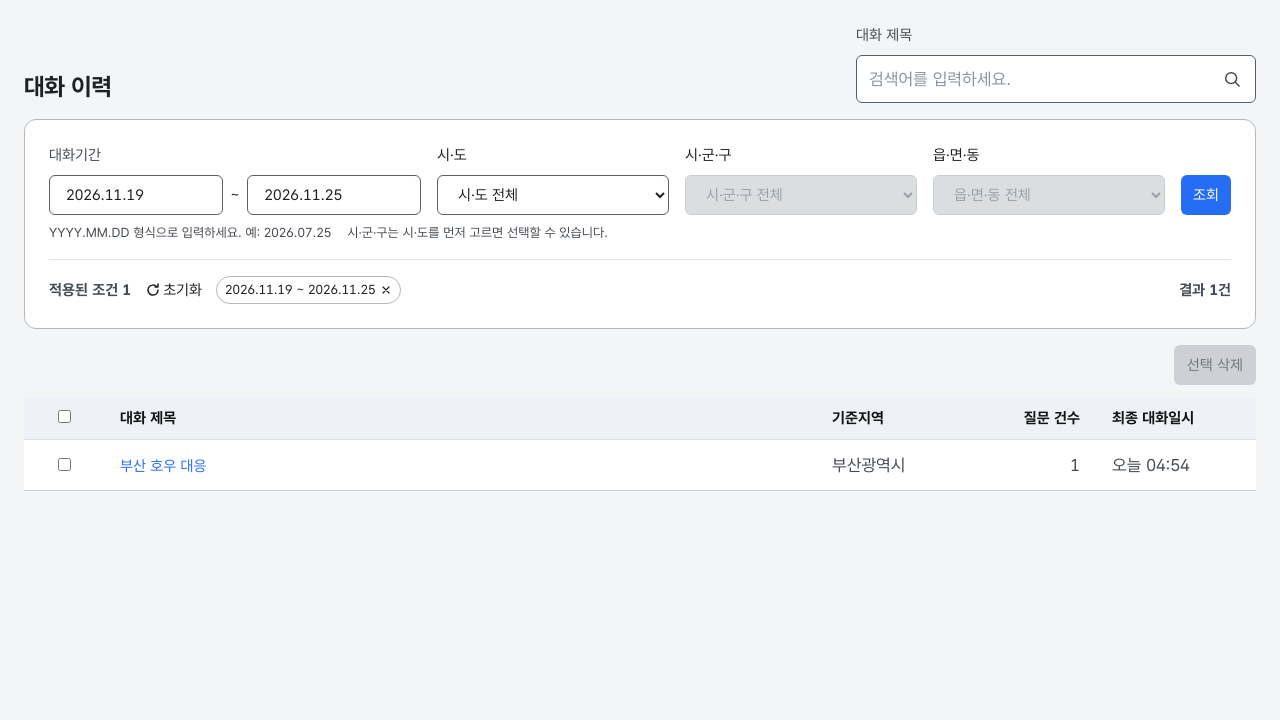
Test: 대화 이력 목록 › 칸만 고쳐서는 걸리지 않고 [조회]를 눌러야 걸린다 — 맞는 것이 없으면 「조건에 맞는 대화가 없습니다.」
In the search field labelled "대화 제목": point(1033, 79) left=857, top=56, right=1209, bottom=102, type "없는제목"
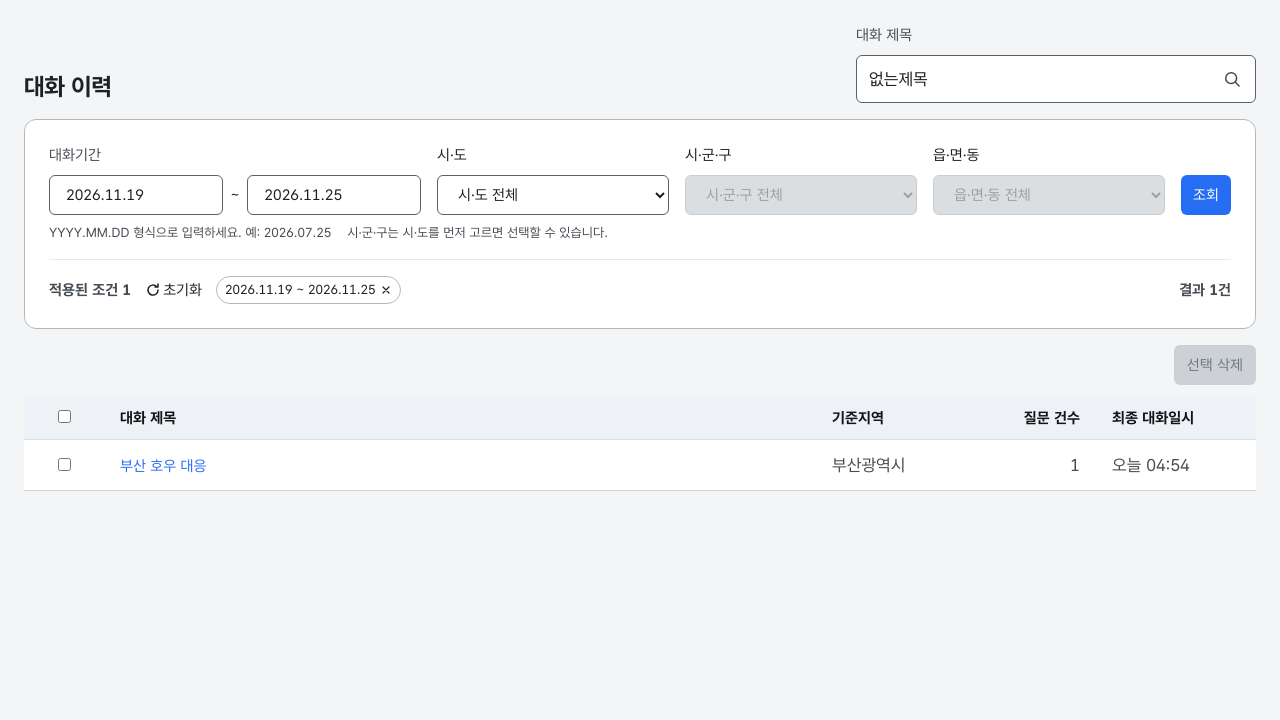
Expected: the button "부산 호우 대응" is shown, left=120, top=457, right=206, bottom=475
Click the button "조회": point(1206, 195) left=1181, top=175, right=1231, bottom=215
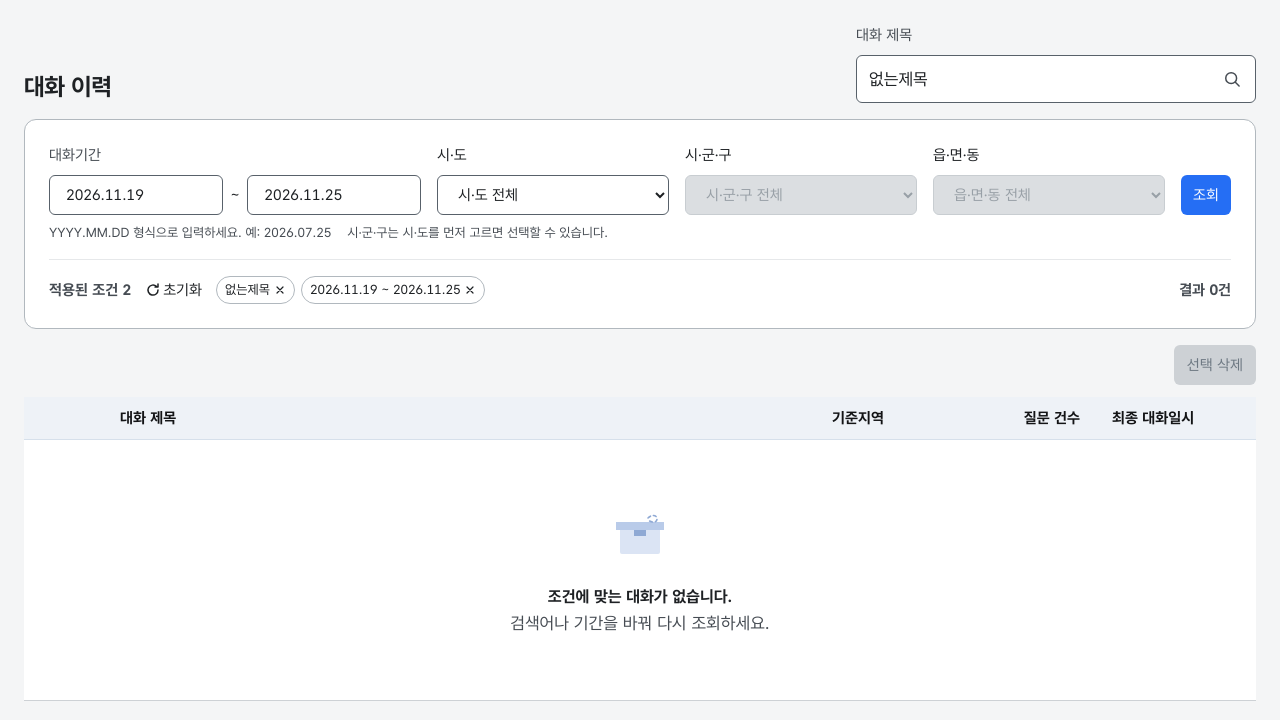
Now the text "조건에 맞는 대화가 없습니다." is shown, box left=548, top=587, right=732, bottom=606
Now the text "적용된 조건 2" is shown, box left=49, top=278, right=131, bottom=302
